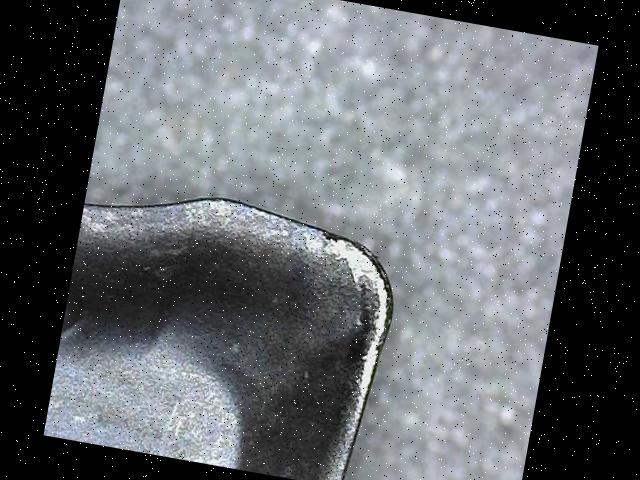normal: (82, 201, 321, 248), (317, 365, 361, 480)
wear: (321, 231, 390, 398)
